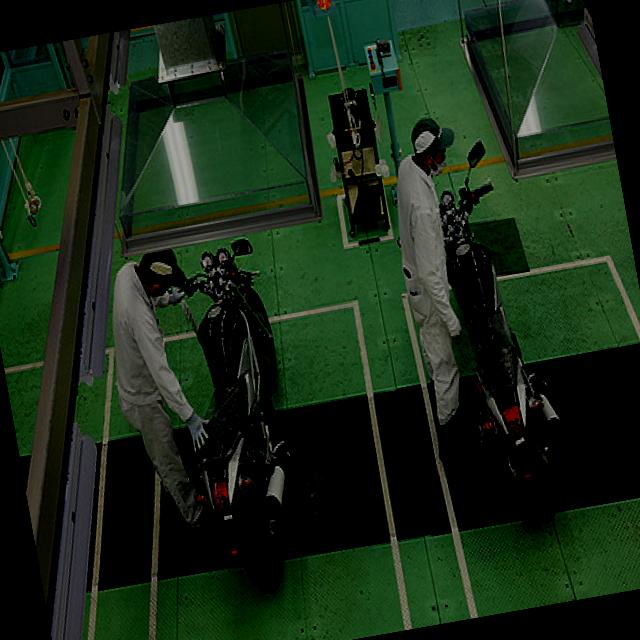Vehicle: (422, 132, 580, 534), (152, 236, 316, 604)
